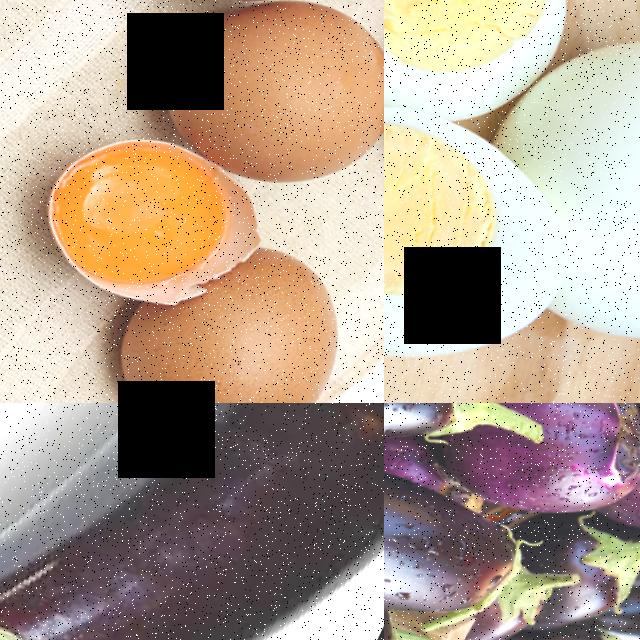egg_: (384, 50, 603, 403), (137, 0, 384, 223), (28, 120, 264, 316), (525, 22, 640, 389), (158, 236, 384, 403), (384, 0, 624, 155), (59, 0, 376, 47)
eggplant: (0, 403, 384, 640), (384, 425, 546, 640), (384, 403, 510, 503), (439, 593, 640, 640)
